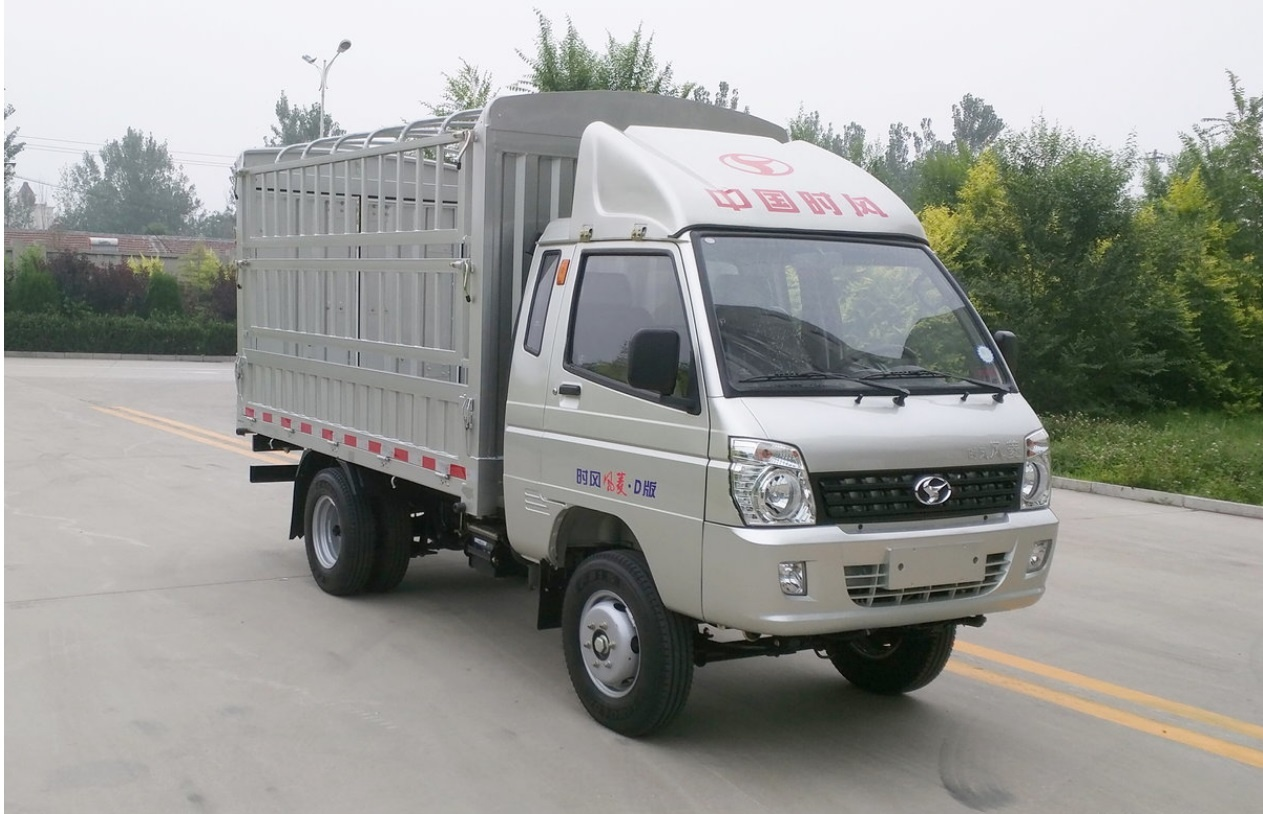truck: (192, 94, 1063, 740)
